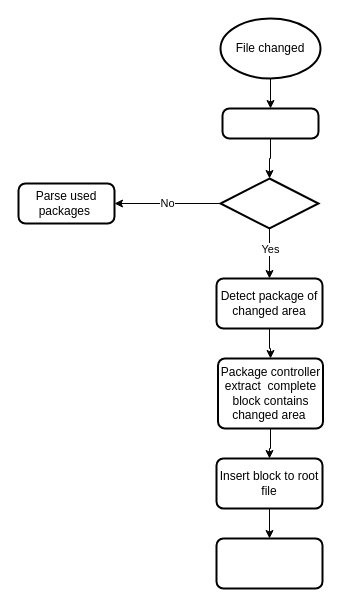
This 341x606 diagram has some shape labels left out. The shapes that lost their labels are listed below. From the top down, each one's centre as x and y in pixels, then its label:
point 270,123: Find root file
point 269,203: Cached
point 269,563: Use Tex engin to generate preview file
